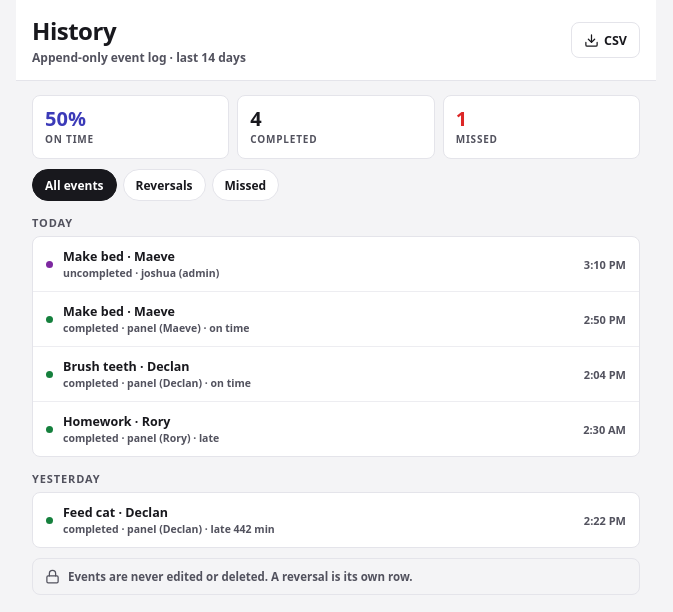
Test: HistoryTab › each filter chip re-queries the API with its filter and re-renders
Expected: the element with test id "stat-on-time" is shown, x1=32 y1=95 x2=229 y2=159
Click the button "Reversals".
click(164, 185)  # box x1=123 y1=169 x2=206 y2=201
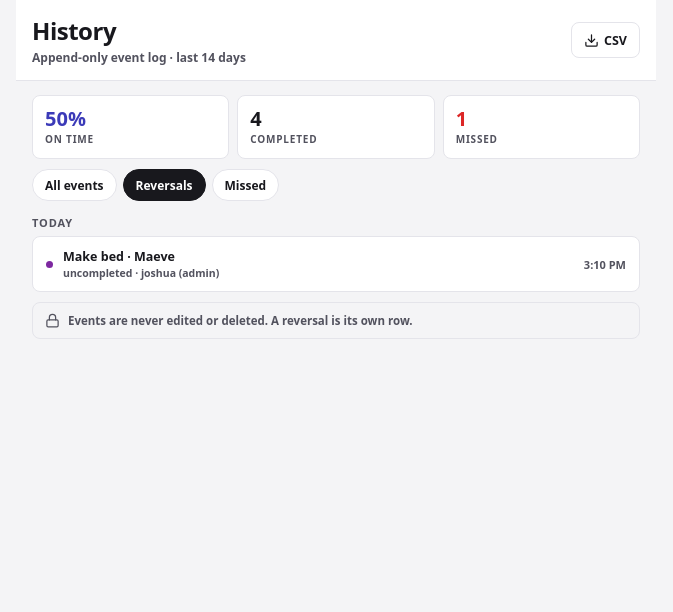
Expected: the text with test id "history-meta" reads "uncompleted · joshua (admin)", x1=63 y1=266 x2=219 y2=280
Expected: the number of list items with test id "history-row" is 1, x1=46 y1=248 x2=626 y2=280
Click the button "Missed".
click(245, 185)  # box x1=212 y1=169 x2=279 y2=201
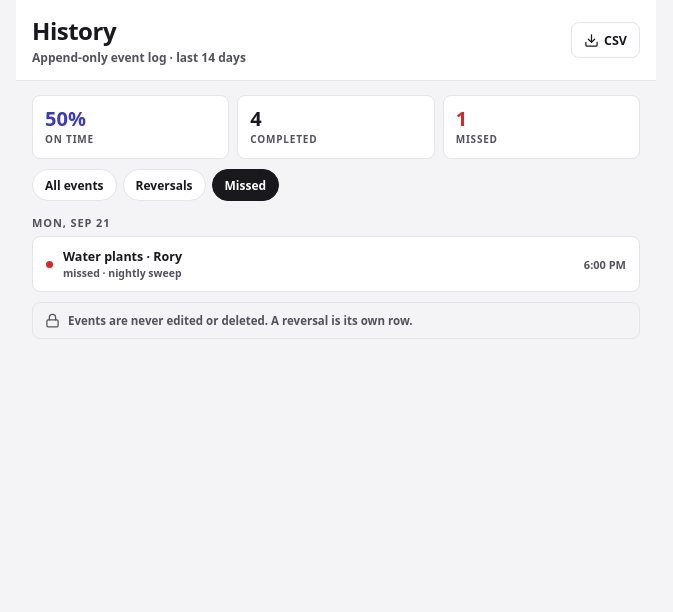
Expected: the element with test id "stat-completed" reads "4 Completed", x1=237 y1=95 x2=435 y2=159
Expected: the heading "Mon, Sep 21" is shown, x1=32 y1=215 x2=110 y2=230
Expected: the text "6:00 PM" is shown, x1=584 y1=256 x2=626 y2=272
Click the button "All events".
click(74, 185)  # box x1=32 y1=169 x2=117 y2=201
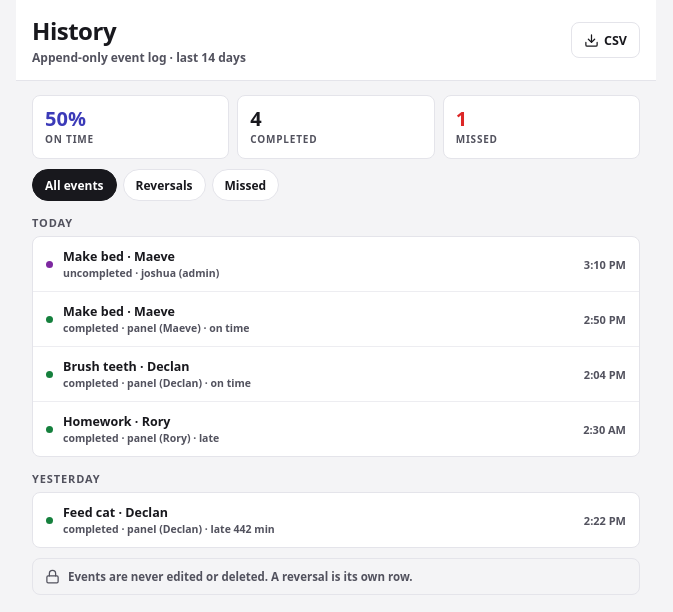
Expected: the element with test id "day-2026-09-23" is shown, x1=32 y1=211 x2=640 y2=457
Expected: the number of list items with test id "history-row" is 5, x1=46 y1=248 x2=626 y2=280; x1=33 y1=291 x2=639 y2=346; x1=33 y1=346 x2=639 y2=401; x1=33 y1=401 x2=639 y2=456; x1=46 y1=504 x2=626 y2=536
